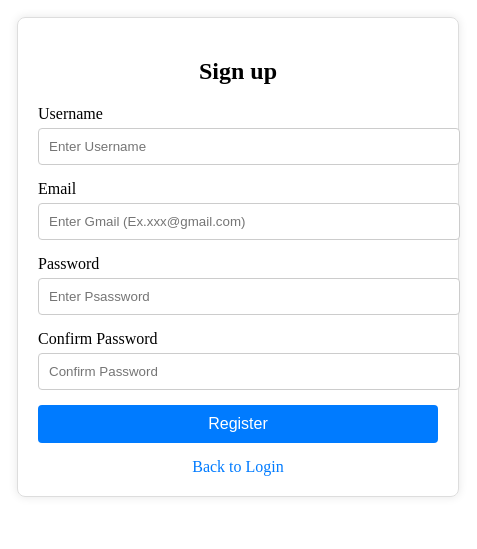
Register Component - Tests › shows error message for invalid email format
In the field labelled "Email": (249, 221) [38, 203, 460, 240], type "invalidEmailFormat"
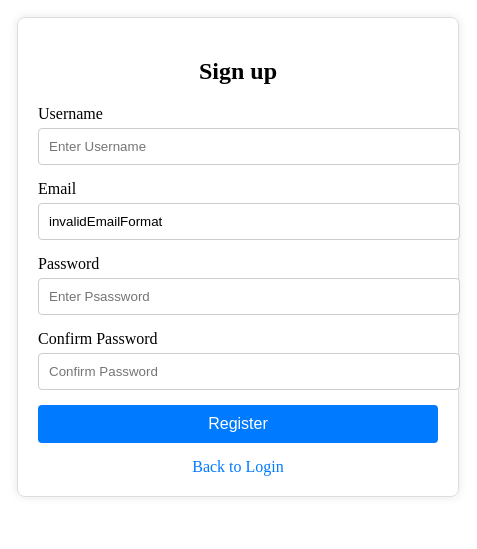
Leave the field labelled "Email", box [38, 203, 460, 240]
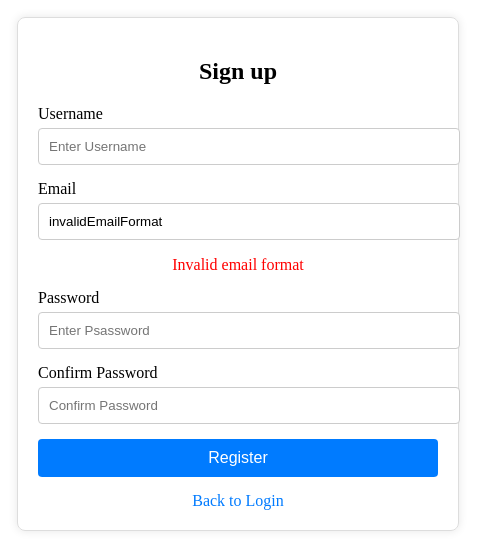
Check: the text "Invalid email format" is shown, box [172, 256, 304, 273]
